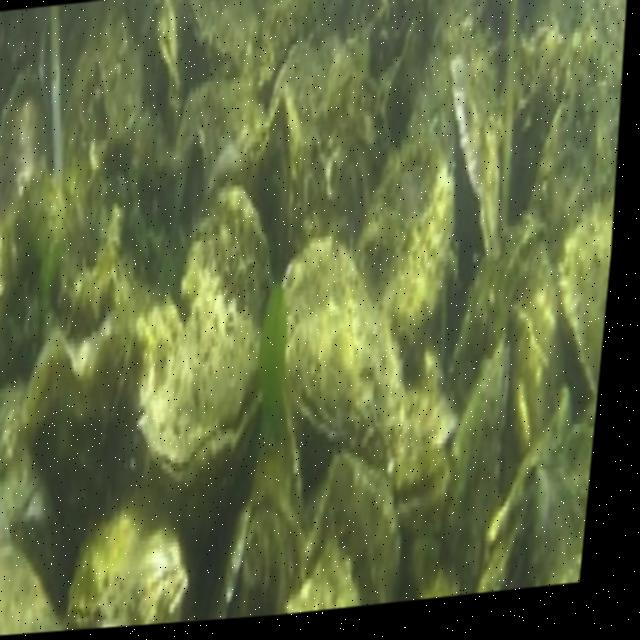Oyster-Closed: (139, 276, 262, 505), (282, 233, 404, 463), (228, 488, 307, 619), (248, 90, 300, 282), (382, 396, 459, 470), (145, 0, 179, 134)
Oyster-Indeterminate: (447, 340, 508, 578), (182, 187, 275, 340), (310, 459, 404, 605), (68, 515, 185, 630), (452, 54, 502, 268), (561, 200, 614, 384), (394, 162, 453, 326), (0, 75, 51, 219), (0, 535, 60, 635)
Oyster-Open: (390, 445, 452, 525)
